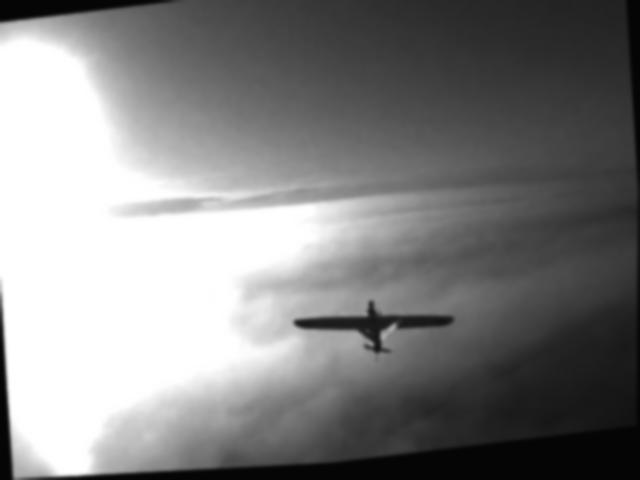hedef: (284, 281, 462, 379)
